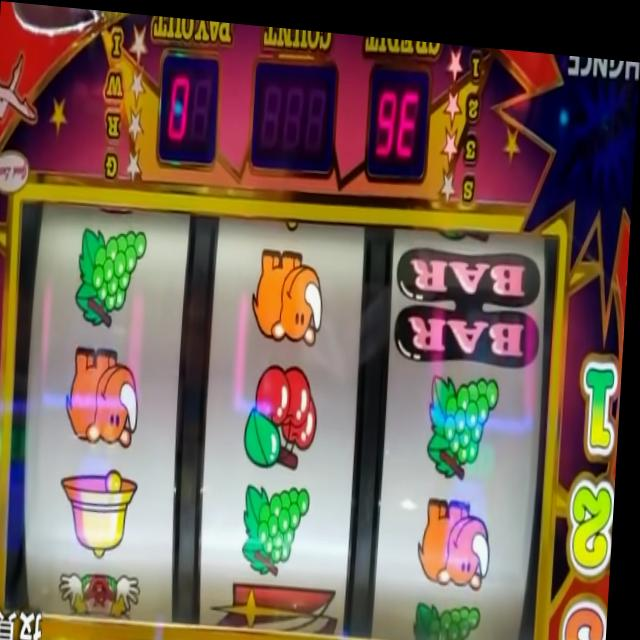bar: (394, 236, 548, 364)
bell: (63, 464, 143, 556)
cherry: (247, 357, 323, 469)
clown: (65, 567, 149, 619)
display: (4, 189, 566, 640)
elephant: (66, 345, 144, 446), (252, 240, 329, 341), (421, 487, 499, 582)
grape: (427, 363, 505, 473), (77, 220, 149, 328), (245, 477, 317, 571), (418, 592, 491, 640)
z: (216, 574, 345, 626)
